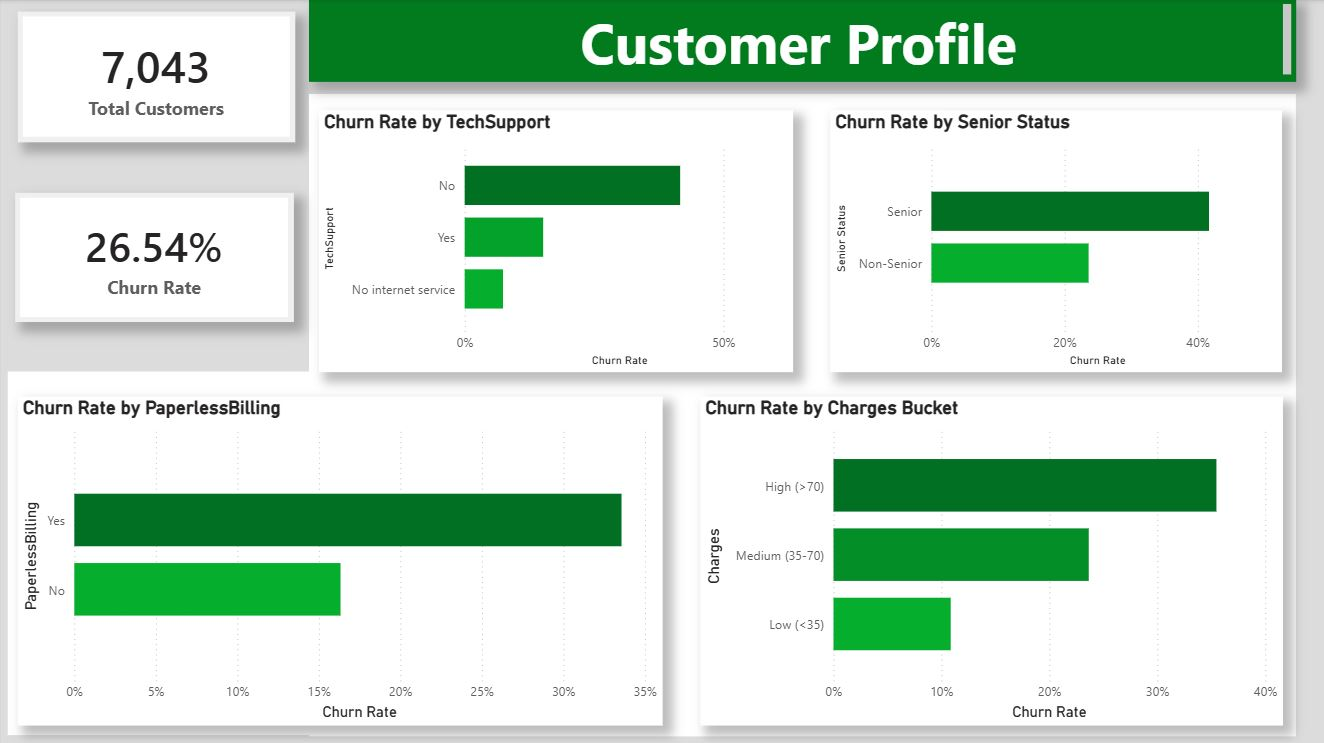

The dashboard page shown, as its layout file describes it:
{"tool":"powerbi","page":{"name":"Página 2","canvas":[1280,720],"ordinal":1},"visuals":[{"type":"shape","box":[0,0,1280,720.2],"z":0},{"type":"cardVisual","title":"Total Costomers","fields":{"Data":["CountNonNull(churn_predictions.customerID)"]},"box":[18.1,12.1,267.8,126.7],"z":1000},{"type":"shape","box":[8.2,360,944.5,350.9],"z":1250},{"type":"shape","box":[298.8,91.2,952.5,620],"z":1500},{"type":"clusteredBarChart","title":"Churn Rate by TechSupport","fields":{"Y":["churn_predictions.Churn Rate"],"Category":["churn_predictions.TechSupport"]},"box":[308.8,107.5,457.5,252.5],"z":2000},{"type":"clusteredBarChart","title":"Churn Rate by Senior Status","fields":{"Y":["churn_predictions.Churn Rate"],"Category":["churn_predictions.Senior Status1"]},"box":[802.5,107.5,436.2,252.5],"z":3000},{"type":"clusteredBarChart","title":"Churn Rate by PaperlessBilling","fields":{"Y":["churn_predictions.Churn Rate"],"Category":["churn_predictions.PaperlessBilling"]},"box":[17.5,383.8,622.5,317.5],"z":5000},{"type":"clusteredBarChart","title":"Churn Rate by Charges Bucket","fields":{"Y":["churn_predictions.Churn Rate"],"Category":["churn_predictions.Charges Bucket"]},"box":[676.2,383.8,562.5,317.5],"z":6000},{"type":"cardVisual","title":"Churn Rate","fields":{"Data":["churn_predictions.Churn Rate"]},"box":[16.2,187.5,268.8,125],"z":7000},{"type":"textbox","box":[299.2,0,953.1,79.6],"z":8000}]}

Visuals, with their boxes in screenshot pixels (x1, y1, x2, y2), scaled from the page's 1280x720 canvas onto the 1324x743 screenshot:
shape: x1=0, y1=0, x2=1323, y2=742
"Total Costomers" cardVisual: x1=19, y1=12, x2=296, y2=143
shape: x1=8, y1=372, x2=985, y2=734
shape: x1=309, y1=94, x2=1294, y2=734
"Churn Rate by TechSupport" clusteredBarChart: x1=319, y1=111, x2=793, y2=372
"Churn Rate by Senior Status" clusteredBarChart: x1=830, y1=111, x2=1281, y2=372
"Churn Rate by PaperlessBilling" clusteredBarChart: x1=18, y1=396, x2=662, y2=724
"Churn Rate by Charges Bucket" clusteredBarChart: x1=699, y1=396, x2=1281, y2=724
"Churn Rate" cardVisual: x1=17, y1=193, x2=295, y2=322
textbox: x1=309, y1=0, x2=1295, y2=82
